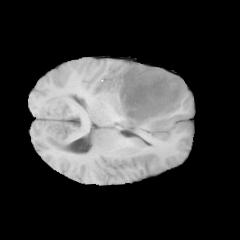glioma: (119, 62, 186, 130)
